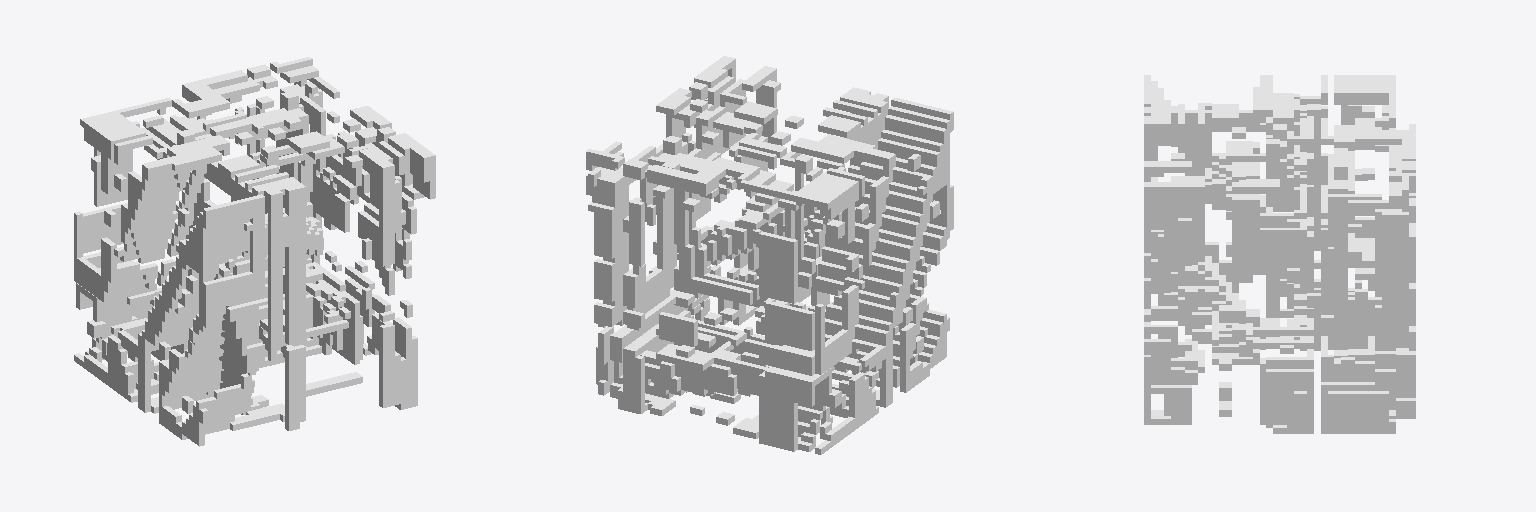
Rendered from building-1-d.obj.
3 views of the same model, side by side, from view 1: azimuth 30°, elevation 25°; view 2: azimuth 150°, elevation 25°; view 3: azimuth 270°, elevation 25° (orthographic).
Visible parts, largest first — view 1: building-1-d; view 2: building-1-d; view 3: building-1-d.
Boxes of the visible parts, <box> form: building-1-d: <box>74,57,435,446</box>; building-1-d: <box>586,56,953,454</box>; building-1-d: <box>1144,75,1415,433</box>.
Size of the model in its own units: 40 by 40 by 40.